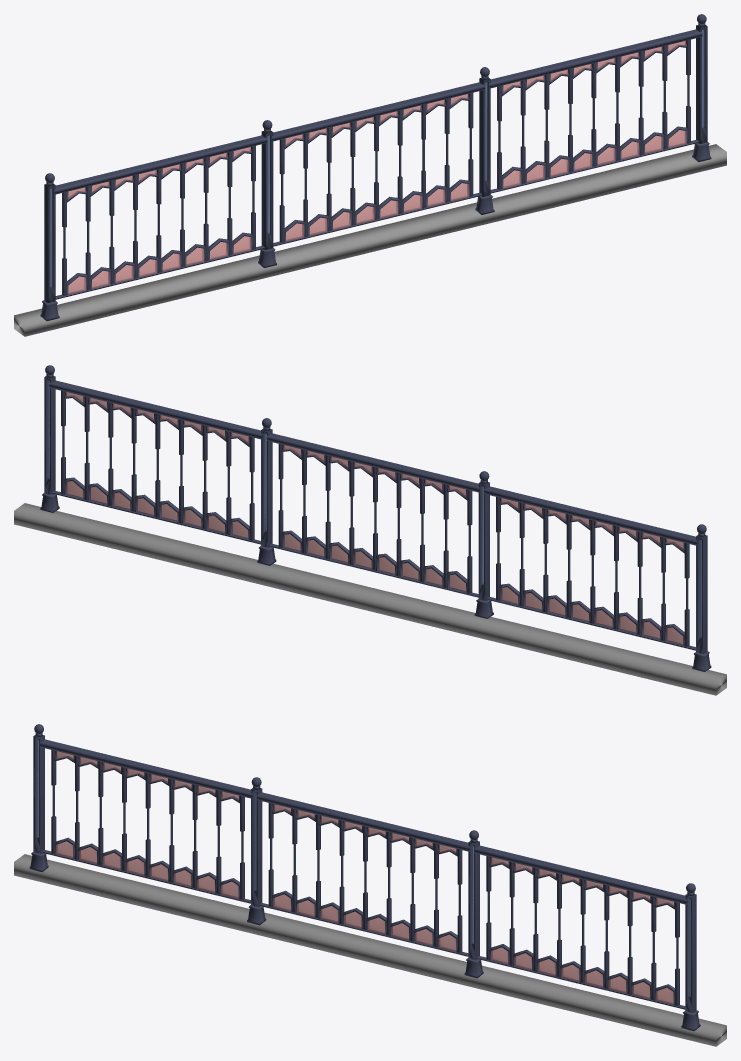
The model's file is cositas.fbx.
3 views of the same model, one above another, from view 1: azimuth 30°, elevation 25°; view 2: azimuth 150°, elevation 25°; view 3: azimuth 330°, elevation 25° (orthographic).
Visible parts, largest first — view 1: Box60, Box21, Rectangl42, Rectang110, Rectang109, Rectangl72, Rectang107, Rectangl28, Rectangl31; view 2: Box60, Box21, Rectang109, Rectang110, Rectangl42, Rectang107, Rectangl72, Rectangl28, Rectangl31; view 3: Box60, Box21, Rectang109, Rectangl42, Rectang110, Rectangl28, Rectang107, Rectangl31, Rectangl72.
Part boxes in pixels (bbox=[...]): Box60: bbox=[14, 144, 726, 336]; Box21: bbox=[55, 139, 698, 299]; Rectangl42: bbox=[54, 135, 267, 194]; Rectang110: bbox=[489, 29, 702, 88]; Rectang109: bbox=[272, 82, 484, 141]; Rectangl72: bbox=[261, 131, 273, 249]; Rectang107: bbox=[44, 184, 55, 302]; Rectangl28: bbox=[696, 25, 707, 143]; Rectangl31: bbox=[479, 78, 490, 196]; Box60: bbox=[14, 503, 726, 695]; Box21: bbox=[53, 491, 695, 650]; Rectang109: bbox=[266, 433, 479, 492]; Rectang110: bbox=[49, 380, 262, 439]; Rectangl42: bbox=[484, 486, 696, 545]; Rectang107: bbox=[696, 535, 707, 653]; Rectangl72: bbox=[478, 482, 489, 600]; Rectangl28: bbox=[44, 376, 55, 494]; Rectangl31: bbox=[261, 429, 272, 547]; Box60: bbox=[14, 854, 726, 1046]; Box21: bbox=[42, 849, 685, 1009]; Rectang109: bbox=[256, 792, 469, 851]; Rectangl42: bbox=[39, 739, 252, 798]; Rectang110: bbox=[474, 845, 687, 904]; Rectangl28: bbox=[685, 894, 696, 1012]; Rectang107: bbox=[33, 735, 44, 853]; Rectangl31: bbox=[468, 841, 479, 959]; Rectangl72: bbox=[251, 788, 262, 906].
Size of the model in its own units: 446 by 95.42 by 15.44.
